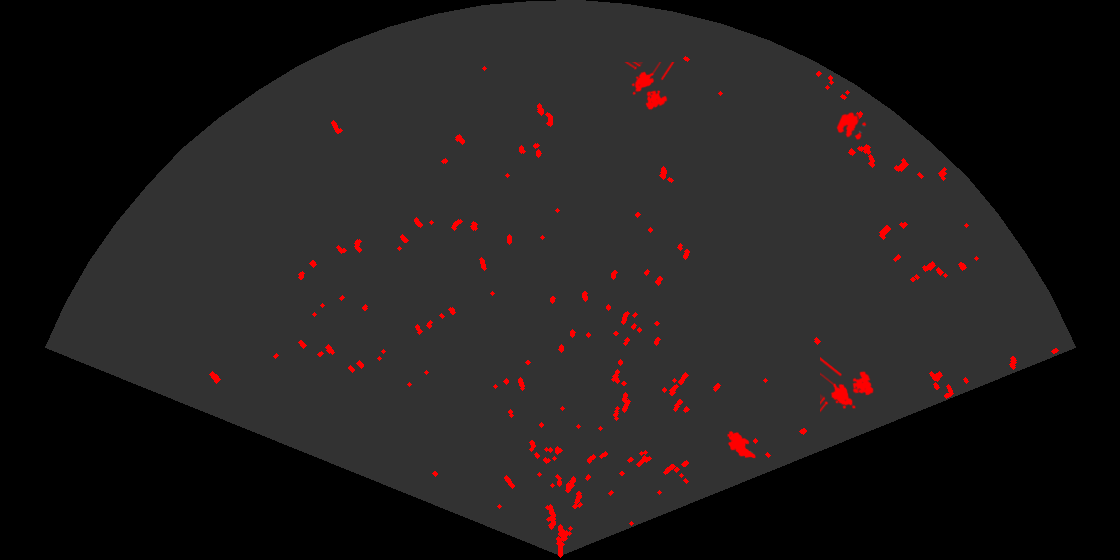AUV: (726, 429, 758, 460)
ball: (835, 110, 868, 142)
cage: (820, 357, 875, 414), (623, 62, 676, 112)
